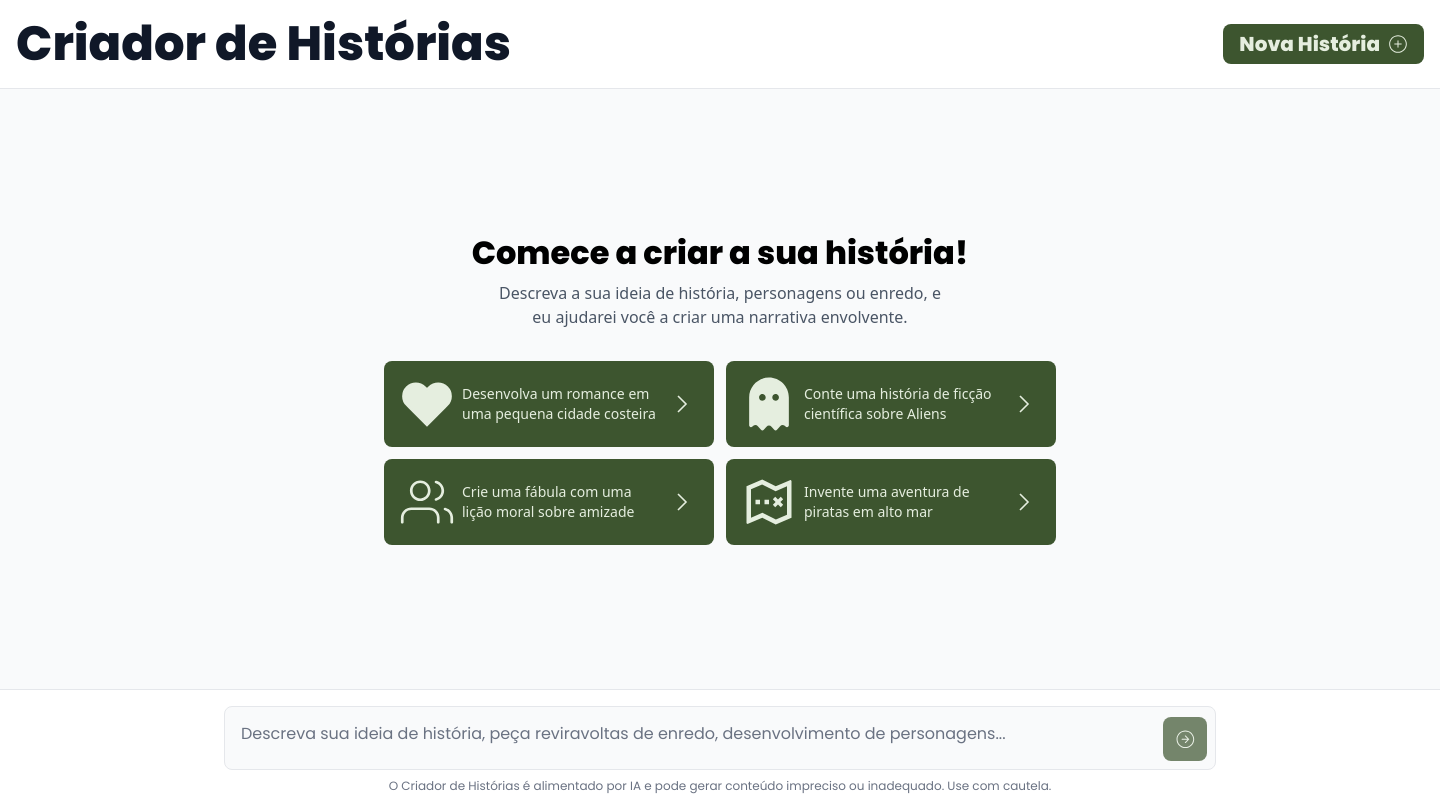
Test: CreateStory › deve enviar opção ao clicar nela
This screenshot has width=1440, height=810.
Type "Início" into the text box with placeholder "Descreva sua ideia de história" at (694, 735), box [233,715,1155,755]
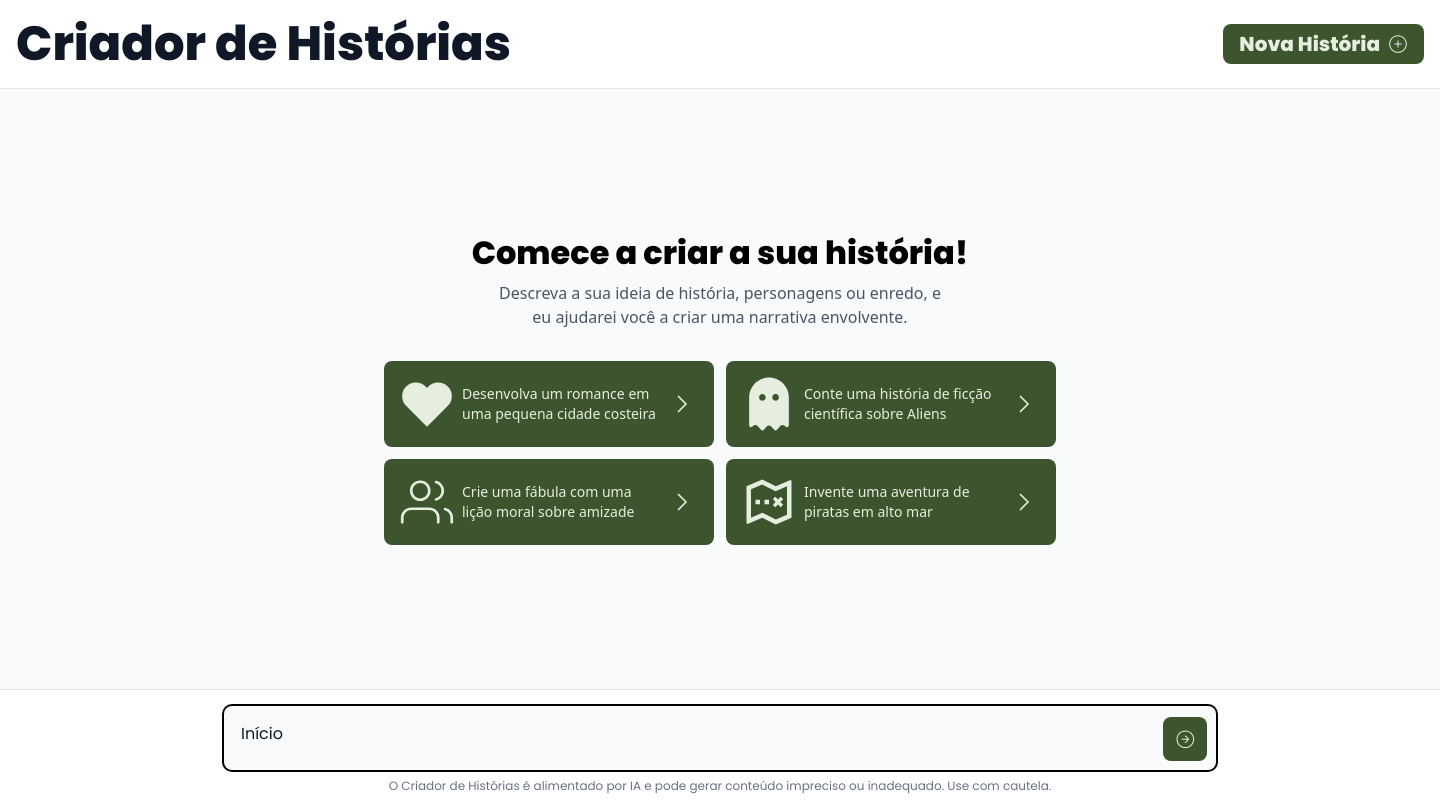
Click the button named "enviar mensagem" at (1185, 739), box [1163,717,1207,761]
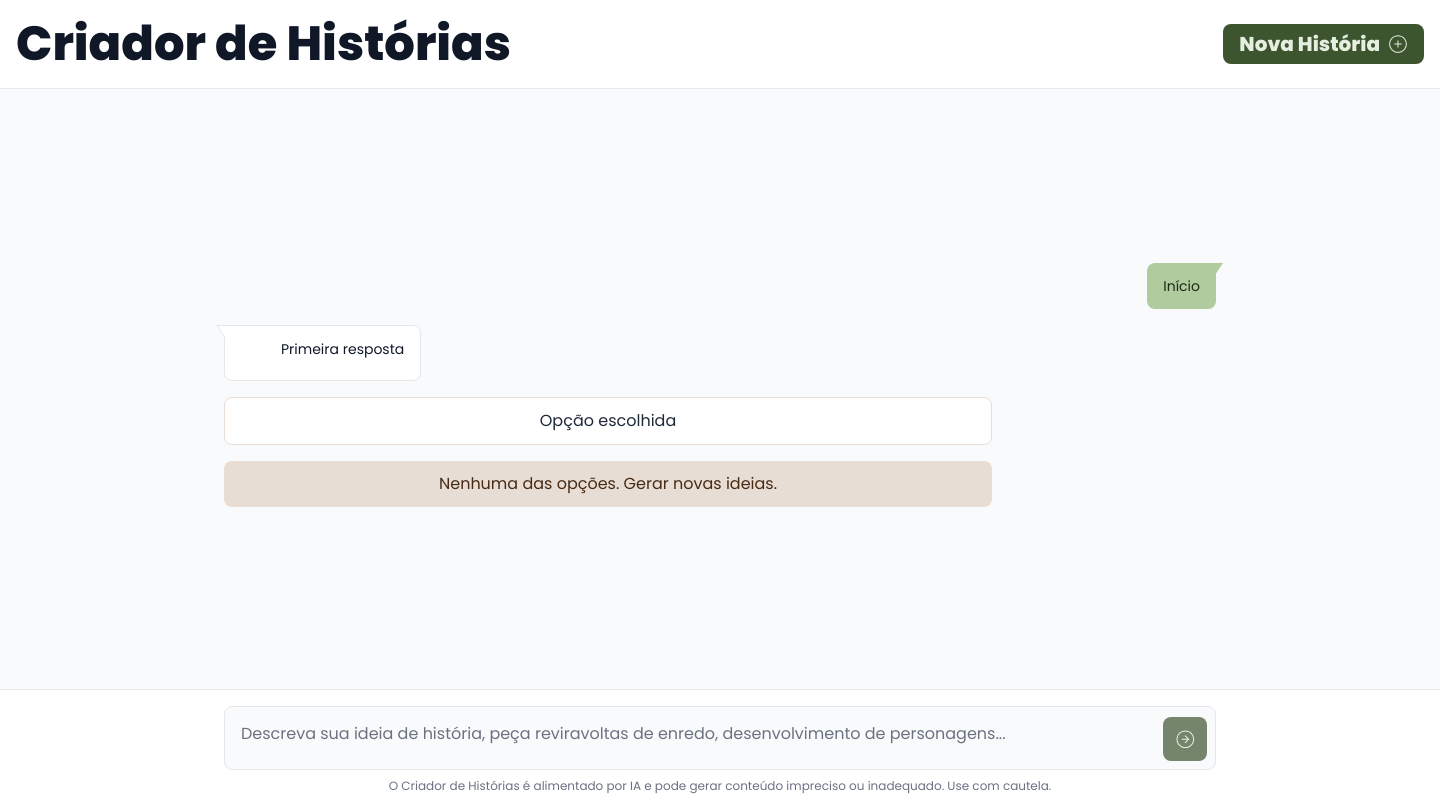
Expected: the text "Primeira resposta" is shown, [281,338,404,361]
Click the button "Opção escolhida" at (608, 421), box [224,397,992,445]
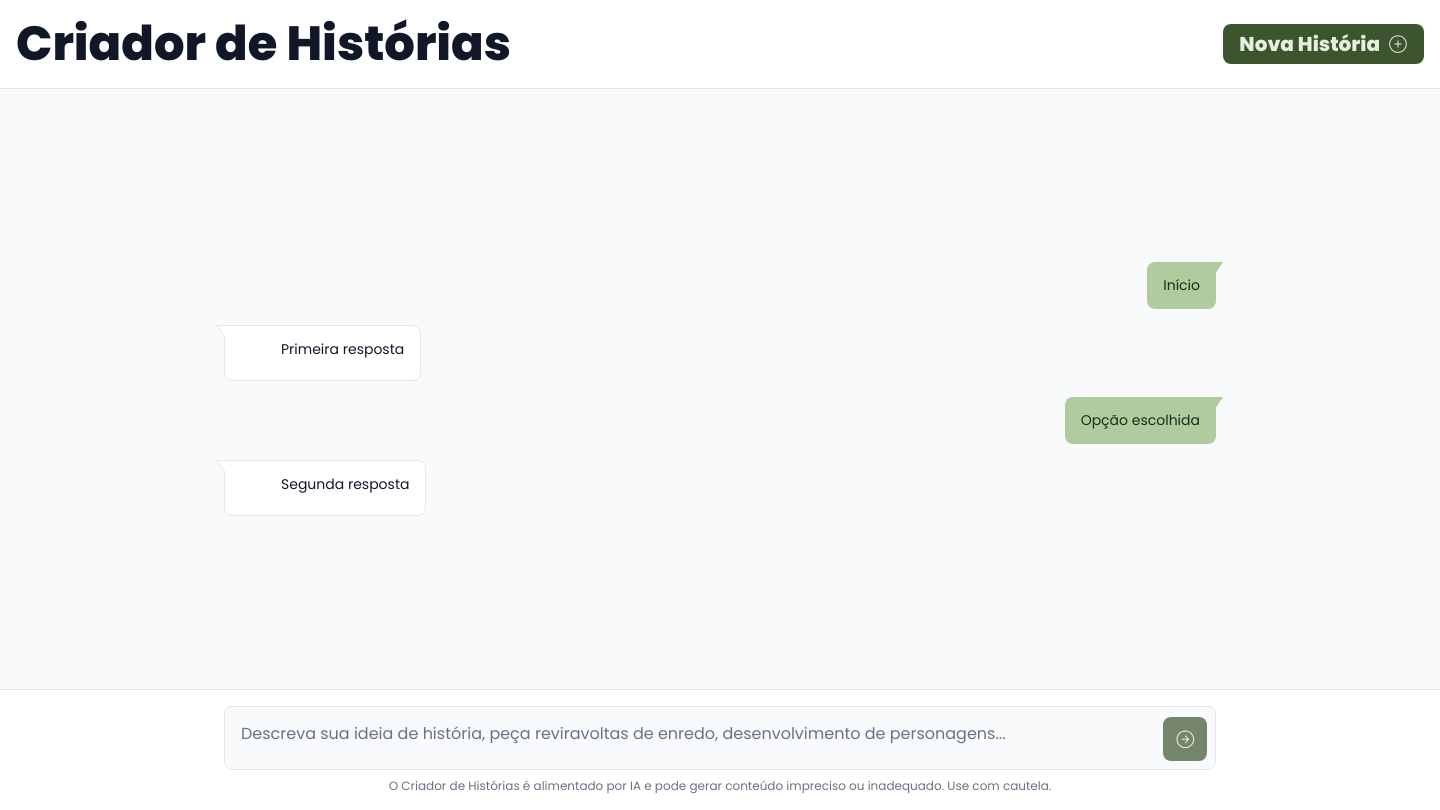
Expected: the text "Segunda resposta" is shown, [281,473,410,496]
